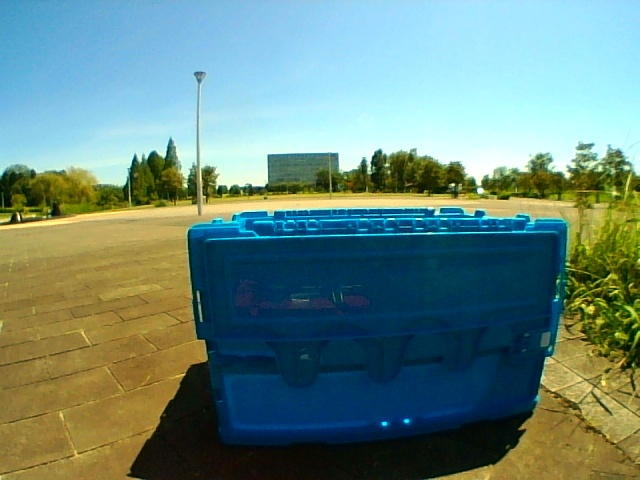blue_box: (211, 212, 537, 417)
